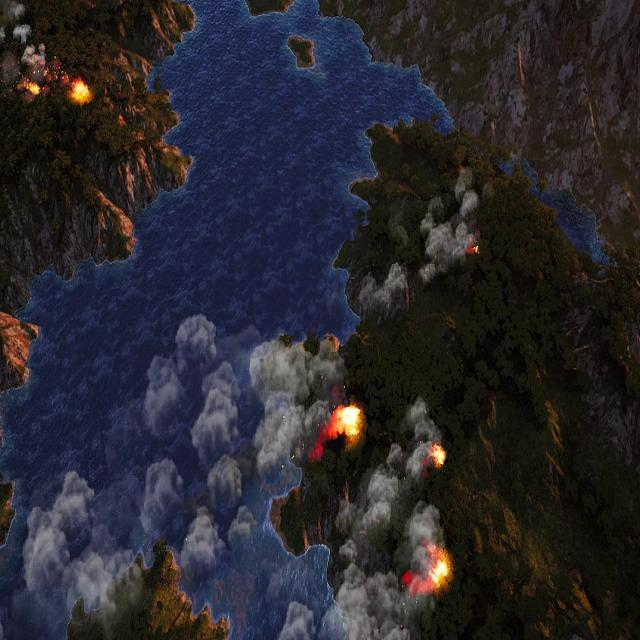fire: (330, 403, 364, 442), (430, 445, 445, 468), (72, 84, 89, 102), (28, 84, 41, 97)
smoke: (140, 316, 346, 579), (280, 397, 452, 640), (9, 470, 140, 640), (358, 172, 479, 322), (422, 173, 478, 279), (0, 1, 47, 84)
